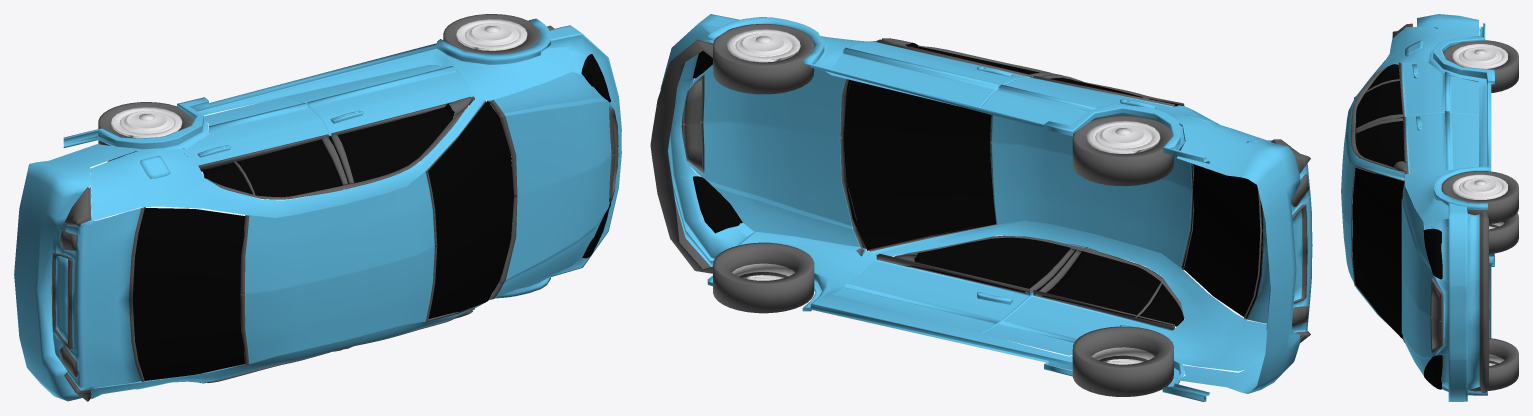
The model's file is car.fbx.
The picture shows the model from 3 angles, left to right: view 1: azimuth 30°, elevation 25°; view 2: azimuth 150°, elevation 25°; view 3: azimuth 270°, elevation 25°; orthographic projection. The views are drawn at different scales.
Visible parts, largest first — view 1: Plane_002, Plane, Plane_003, Plane_004, Plane_006, Plane_001, Plane_005, Plane_010, Plane_007, Plane_009, Circle, Circle_001 (+2 smaller); view 2: Plane_005, Plane, Plane_001, Plane_002, Plane_010, Plane_007, Plane_006, Plane_009, Plane_008, Plane_003, Circle_002, Circle_003 (+5 smaller); view 3: Plane_008, Plane_005, Plane_001, Plane, Plane_007, Plane_010, Circle, Plane_006, Circle_001, Circle_002, Plane_002, Plane_011 (+2 smaller).
Part boxes in pixels (bbox=[...]): Plane_002: bbox=[240, 170, 437, 364]; Plane: bbox=[488, 72, 618, 299]; Plane_003: bbox=[133, 208, 244, 380]; Plane_004: bbox=[51, 186, 145, 401]; Plane_006: bbox=[90, 100, 485, 398]; Plane_001: bbox=[428, 101, 513, 318]; Plane_005: bbox=[184, 65, 474, 382]; Plane_010: bbox=[201, 97, 472, 383]; Plane_007: bbox=[63, 18, 571, 378]; Plane_009: bbox=[14, 144, 140, 401]; Circle: bbox=[443, 14, 540, 73]; Circle_001: bbox=[98, 102, 194, 161]; Plane_005: bbox=[831, 39, 1174, 355]; Plane: bbox=[681, 45, 866, 256]; Plane_001: bbox=[843, 79, 996, 250]; Plane_002: bbox=[990, 112, 1193, 269]; Plane_010: bbox=[882, 38, 1184, 326]; Plane_007: bbox=[707, 17, 1210, 401]; Plane_006: bbox=[869, 41, 1271, 371]; Plane_009: bbox=[1177, 125, 1300, 393]; Plane_008: bbox=[650, 14, 759, 273]; Plane_003: bbox=[1182, 141, 1262, 318]; Circle_002: bbox=[713, 242, 814, 313]; Circle_003: bbox=[1072, 326, 1173, 396]; Plane_008: bbox=[1424, 203, 1489, 401]; Plane_005: bbox=[1398, 61, 1479, 347]; Plane_001: bbox=[1352, 168, 1404, 338]; Plane: bbox=[1401, 183, 1443, 375]; Plane_007: bbox=[1405, 23, 1494, 395]; Plane_010: bbox=[1351, 64, 1407, 337]; Circle: bbox=[1441, 171, 1518, 224]; Plane_006: bbox=[1345, 27, 1438, 335]; Circle_001: bbox=[1442, 40, 1518, 92]; Circle_002: bbox=[1469, 338, 1518, 391]; Plane_002: bbox=[1341, 96, 1355, 285]; Plane_011: bbox=[1423, 228, 1442, 389].
Size of the model in its own units: 4.62 by 1.86 by 1.52.
